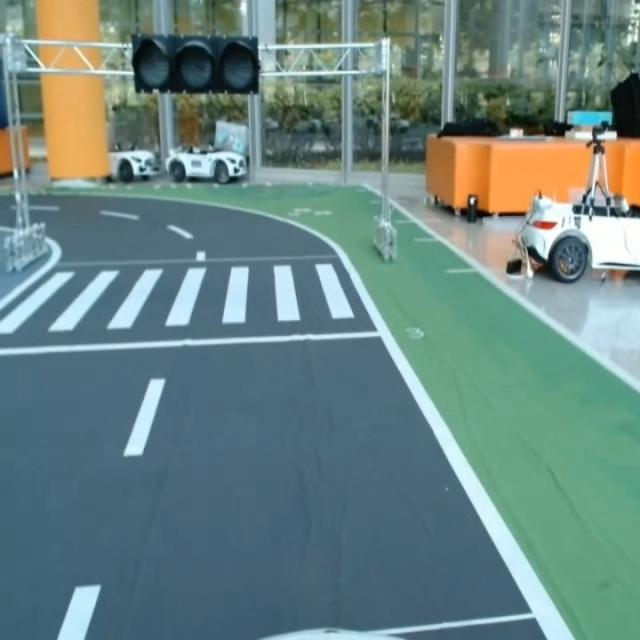traffic-light: (129, 30, 262, 97)
